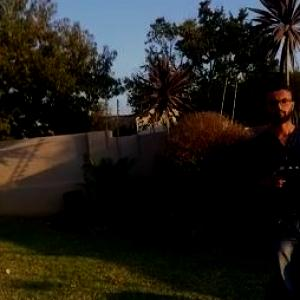follow: (245, 73, 300, 299)
